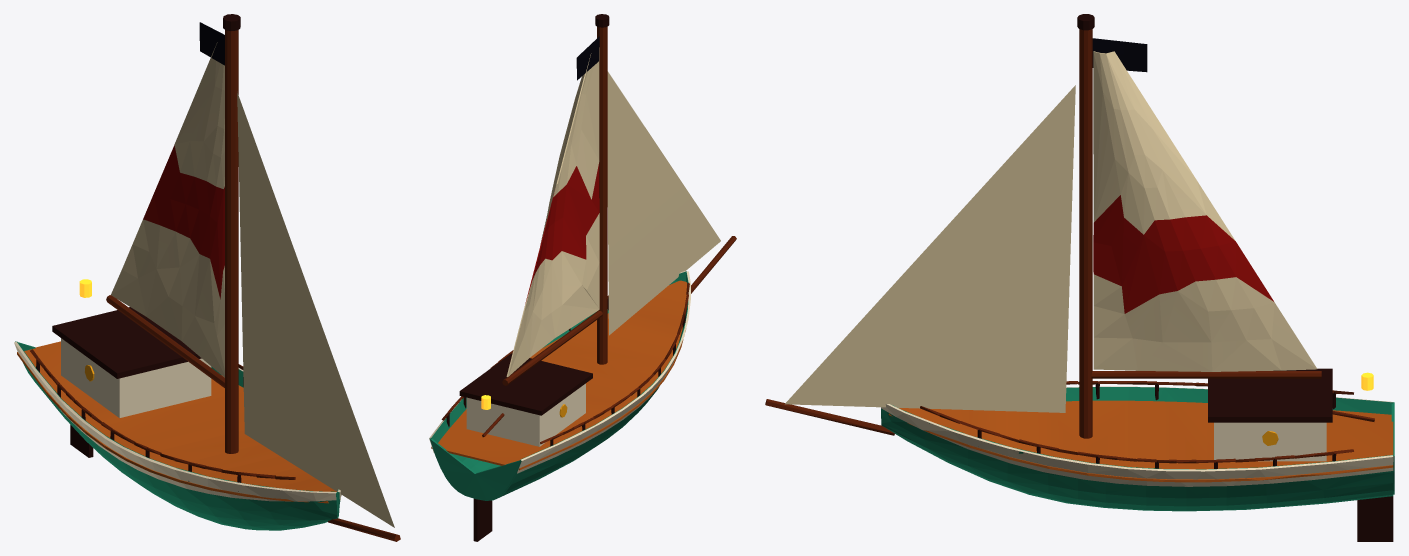
The model's file is tidebreakers_coastal_sloop.three-web-toon.lod50.glb.
3 views of the same model, side by side, from view 1: azimuth 30°, elevation 25°; view 2: azimuth 150°, elevation 25°; view 3: azimuth 270°, elevation 25° (orthographic). The views are drawn at different scales.
Visible parts, largest first — view 1: tidebreakers_coastal_sloop_mesh_lod; view 2: tidebreakers_coastal_sloop_mesh_lod; view 3: tidebreakers_coastal_sloop_mesh_lod.
Part boxes in pixels (x1=…): tidebreakers_coastal_sloop_mesh_lod: x1=14, y1=14, x2=400, y2=541; tidebreakers_coastal_sloop_mesh_lod: x1=429, y1=14, x2=736, y2=541; tidebreakers_coastal_sloop_mesh_lod: x1=765, y1=14, x2=1394, y2=541.
Bounding box in the file's own units: 3.87 × 11.28 × 12.3.
